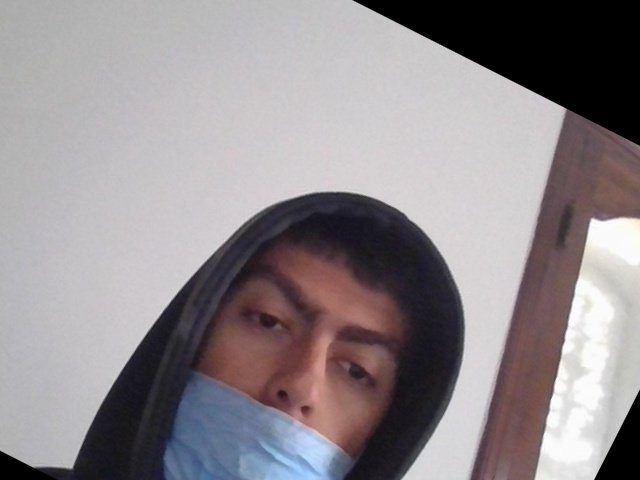mask_weared_incorrect: (156, 207, 405, 479)
